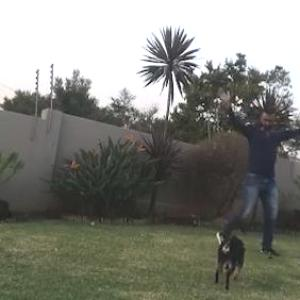takeoff: (212, 83, 299, 254)
